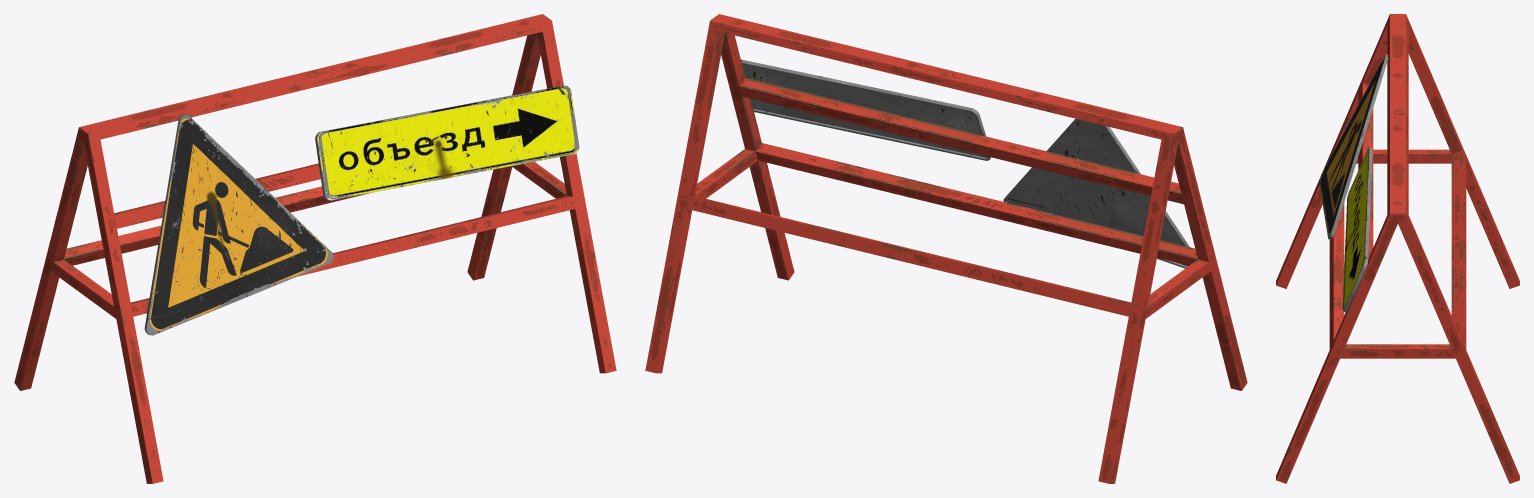
The model's file is warning_sign_barrier.glb.
3 renders of one model, left to right at view 1: azimuth 30°, elevation 25°; view 2: azimuth 150°, elevation 25°; view 3: azimuth 270°, elevation 25°, orthographic. The views are drawn at different scales.
Parts seen in each view (by area): view 1: Cube_low_0; view 2: Cube_low_0; view 3: Cube_low_0.
Part boxes in pixels (bbox=[...]): Cube_low_0: bbox=[14, 14, 616, 483]; Cube_low_0: bbox=[645, 14, 1247, 483]; Cube_low_0: bbox=[1276, 14, 1519, 483].
Bounding box in the file's own units: 2.31 × 1.45 × 1.19.
Materials: 1 (1 with a texture image).
